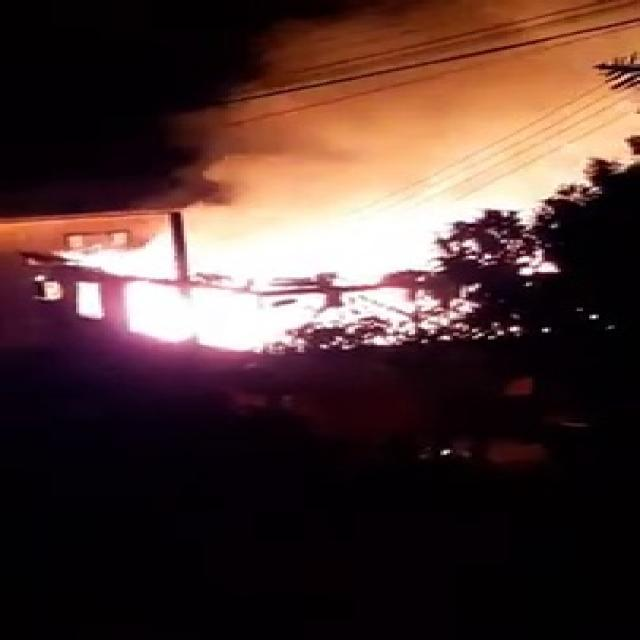Fire: (13, 220, 488, 345)
Smoke: (149, 2, 640, 292)
